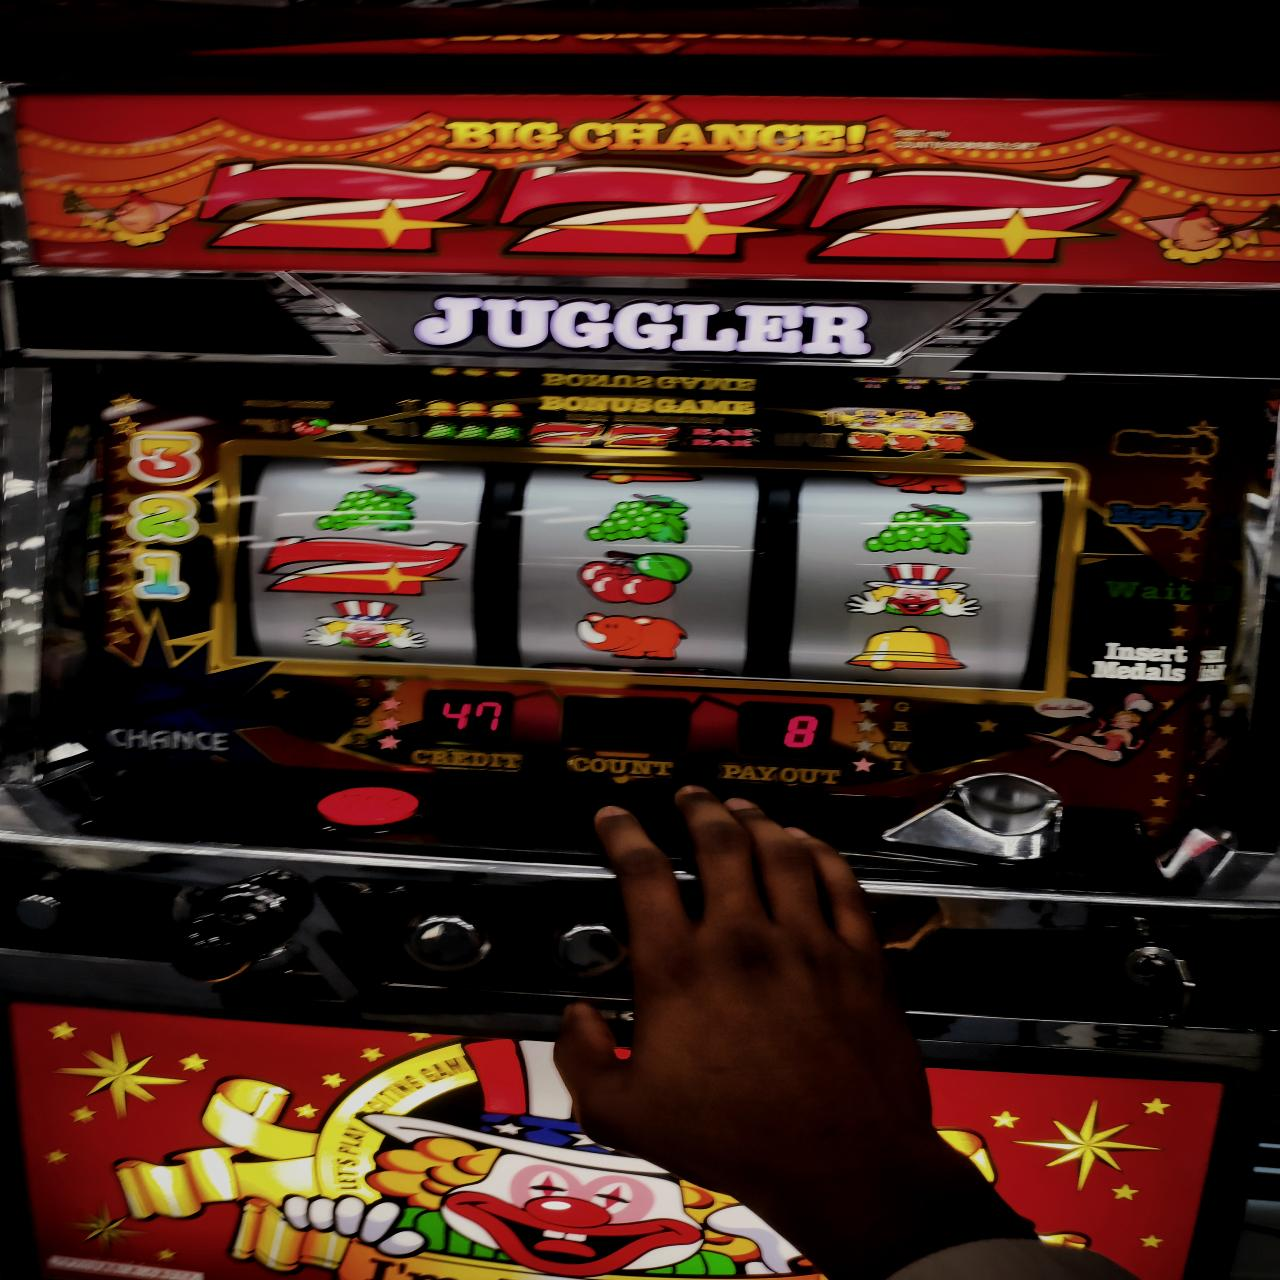7: (260, 536, 463, 600)
8: (574, 614, 688, 659)
Display: (232, 447, 1055, 699)
bell: (842, 625, 962, 673)
cherry: (579, 550, 692, 605)
clown: (850, 561, 983, 619), (302, 599, 423, 652)
grape: (866, 499, 975, 560), (583, 493, 689, 543), (314, 484, 415, 533)
